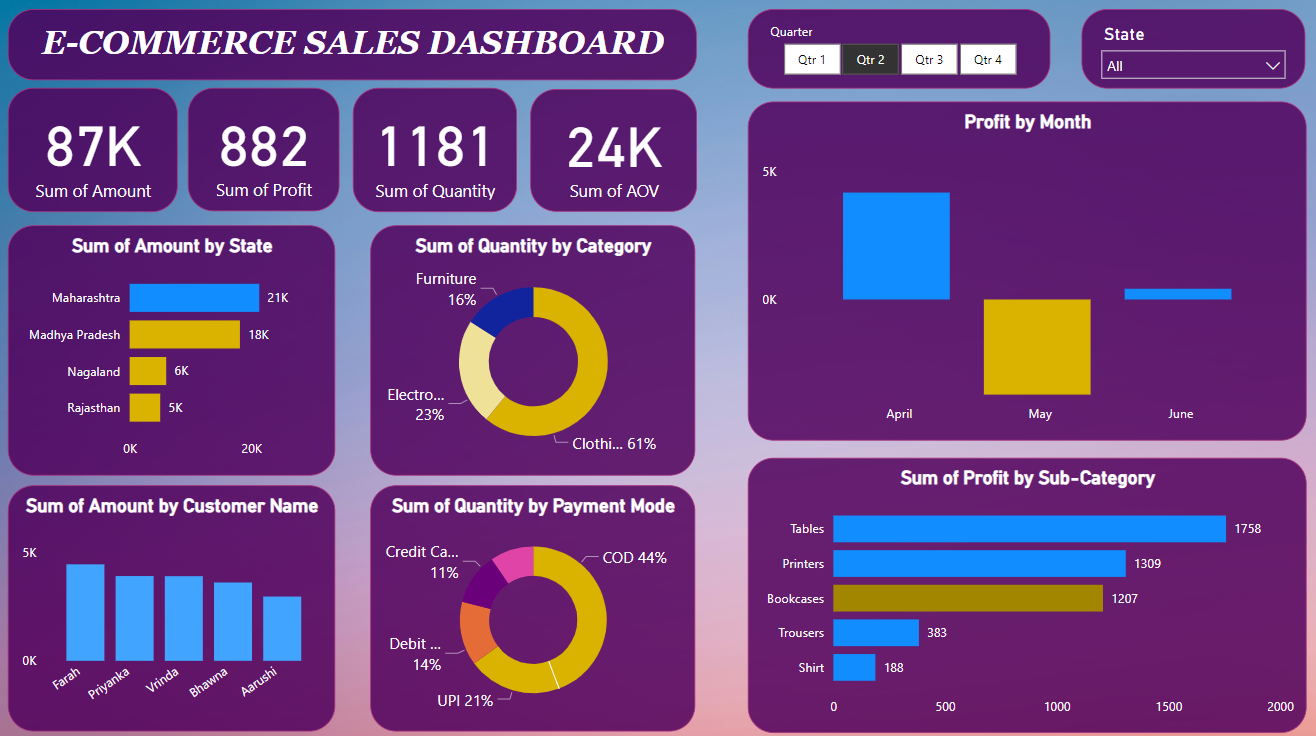

Layout of this report page (visuals, bound fields, positions):
{"tool":"powerbi","page":{"name":"Page 1","canvas":[1280,720],"ordinal":0},"visuals":[{"type":"textbox","box":[13.3,14.5,664.5,68.7],"z":0},{"type":"columnChart","title":"Profit by Month","fields":{"Category":["Orders.Order Date.Variation.Date Hierarchy.Month"],"Y":["Sum(Details.Profit)"]},"box":[727.2,103.7,539.1,326.8],"z":1000},{"type":"barChart","fields":{"Category":["Details.Sub-Category"],"Y":["Sum(Details.Profit)"]},"box":[726,445,539.1,266.5],"z":2000},{"type":"donutChart","fields":{"Category":["Details.Category"],"Y":["Sum(Details.Quantity)"]},"box":[363,223.1,313.6,241.2],"z":3000},{"type":"donutChart","title":"Sum of Quantity by Payment Mode","fields":{"Y":["Sum(Details.Quantity)"],"Category":["Details.PaymentMode"]},"box":[362.5,473.9,313.6,238.6],"z":4000},{"type":"card","fields":{"Values":["Sum(Details.Amount)"]},"box":[13,91,164,120],"z":5000},{"type":"card","fields":{"Values":["Sum(Details.Quantity)"]},"box":[346,90,158,120],"z":6000},{"type":"card","fields":{"Values":["Sum(Details.Profit)"]},"box":[187,91,146,119],"z":7000},{"type":"card","fields":{"Values":["Sum(Details.AOV)"]},"box":[517,92,161,118],"z":8000},{"type":"barChart","fields":{"Category":["Orders.State"],"Y":["Sum(Details.Amount)"]},"box":[13.3,223.1,316,241.2],"z":9000},{"type":"columnChart","title":"Sum of Amount by Customer Name","fields":{"Category":["Orders.CustomerName"],"Y":["Sum(Details.Amount)"]},"box":[13.6,473.9,315.9,238.6],"z":10000},{"type":"slicer","fields":{"Values":["Orders.Order Date.Variation.Date Hierarchy.Quarter"]},"box":[727.2,14.5,291.9,77.2],"z":11000},{"type":"slicer","fields":{"Values":["Orders.State"]},"box":[1049.2,14.5,215.9,77.2],"z":12000}]}

Visuals, with their boxes in screenshot pixels (x1, y1, x2, y2), scaled from the page's 1280x720 canvas onto the 1316x736 screenshot:
textbox: <box>14,15,697,85</box>
"Profit by Month" columnChart: <box>748,106,1302,440</box>
barChart - Details.Sub-Category x Sum(Details.Profit): <box>746,455,1301,727</box>
donutChart - Details.Category x Sum(Details.Quantity): <box>373,228,696,475</box>
"Sum of Quantity by Payment Mode" donutChart: <box>373,484,695,728</box>
card - Sum(Details.Amount): <box>13,93,182,216</box>
card - Sum(Details.Quantity): <box>356,92,518,215</box>
card - Sum(Details.Profit): <box>192,93,342,215</box>
card - Sum(Details.AOV): <box>532,94,697,215</box>
barChart - Orders.State x Sum(Details.Amount): <box>14,228,339,475</box>
"Sum of Amount by Customer Name" columnChart: <box>14,484,339,728</box>
slicer - Orders.Order Date.Variation.Date Hierarchy.Quarter: <box>748,15,1048,94</box>
slicer - Orders.State: <box>1079,15,1301,94</box>
